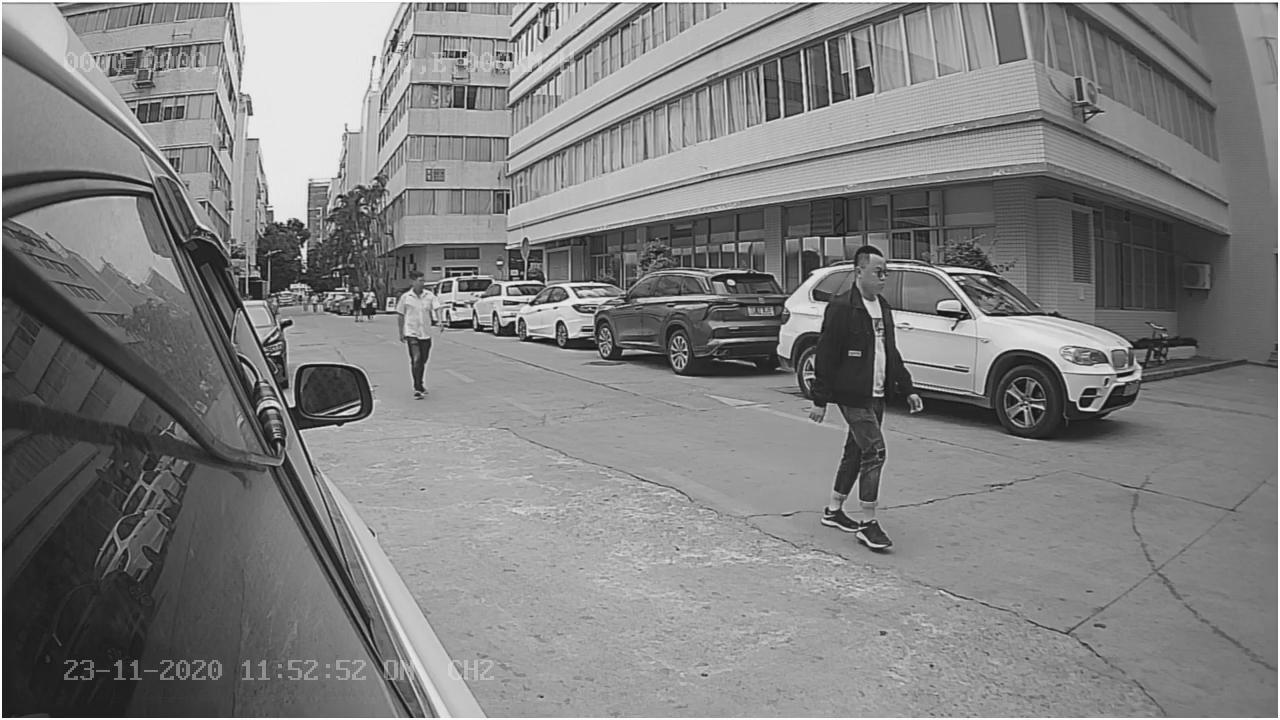person: (803, 243, 906, 552)
